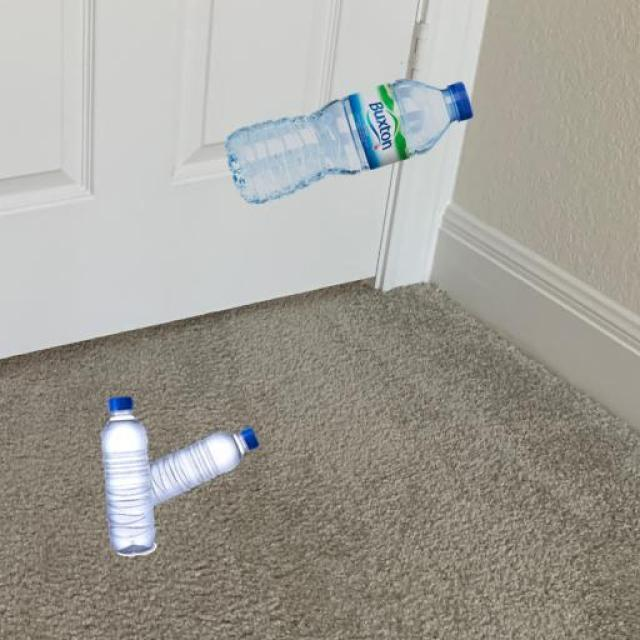bottle: (210, 52, 480, 217), (78, 392, 166, 558), (150, 418, 270, 514)
